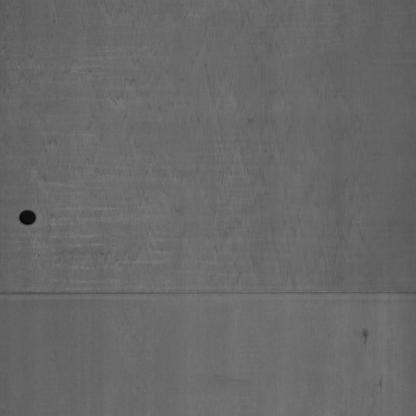inclusion: (359, 323, 370, 350)
punching_hole: (18, 204, 39, 228)
silk_spot: (46, 30, 374, 268)
welding_line: (1, 278, 414, 307)
